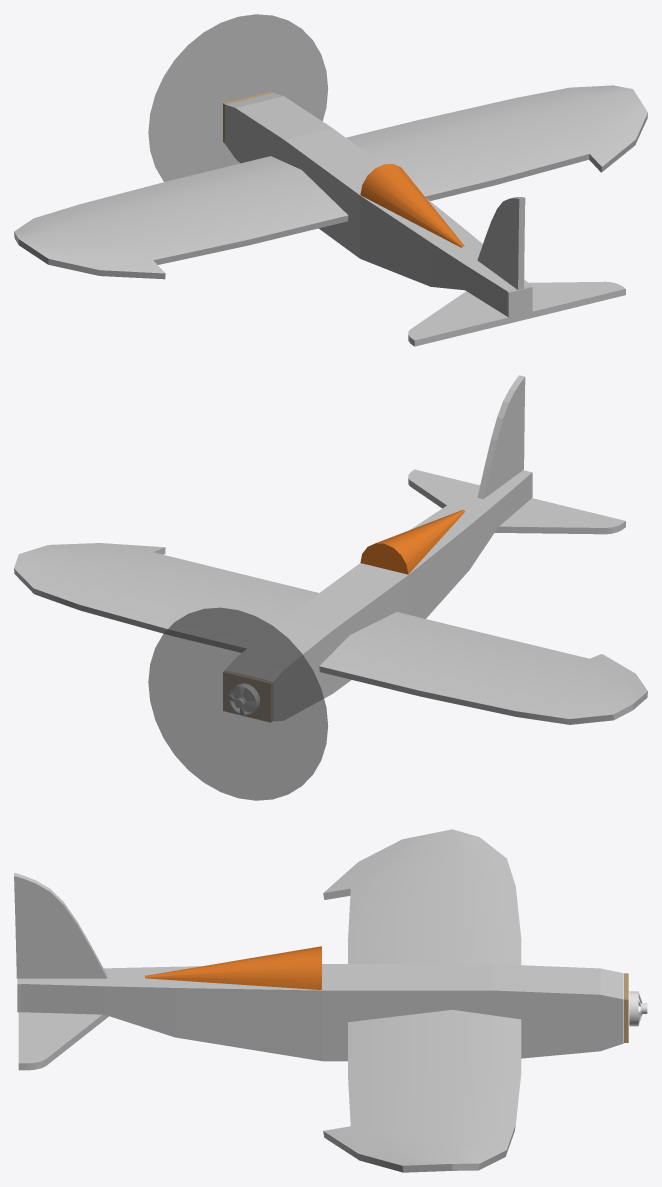
File: Mini3D.glb
3 renders of one model, top to bottom at view 1: azimuth 30°, elevation 25°; view 2: azimuth 150°, elevation 25°; view 3: azimuth 270°, elevation 25°, orthographic. The views are drawn at different scales.
Parts seen in each view (by area): view 1: Wing, Skin, Propeller, HorizontalStabiliser, Hood, VerticalStabiliser, Ribs; view 2: Wing, Propeller, Skin, HorizontalStabiliser, VerticalStabiliser, Hood, Firewall, Motor; view 3: Wing, Skin, VerticalStabiliser, Hood, HorizontalStabiliser, Motor.
Part boxes in pixels (box(x1,y1,x2,y2)): Wing: box(14, 85, 647, 279); Skin: box(225, 92, 530, 316); Propeller: box(148, 14, 327, 181); HorizontalStabiliser: box(408, 281, 625, 346); Hood: box(360, 164, 464, 247); VerticalStabiliser: box(477, 197, 525, 289); Ribs: box(507, 285, 532, 317); Wing: box(14, 543, 647, 724); Propeller: box(148, 607, 327, 800); Skin: box(225, 471, 531, 720); HorizontalStabiliser: box(408, 469, 625, 534); VerticalStabiliser: box(477, 375, 525, 499); Hood: box(360, 510, 465, 574); Firewall: box(223, 671, 272, 722); Motor: box(229, 683, 259, 715); Wing: box(323, 829, 521, 1172); Skin: box(21, 964, 623, 1061); VerticalStabiliser: box(14, 873, 107, 978); Hood: box(145, 946, 321, 989); HorizontalStabiliser: box(18, 1012, 108, 1070); Motor: box(629, 991, 647, 1026).
Size of the model in its own units: 0.5124 by 0.1709 by 0.4103.
